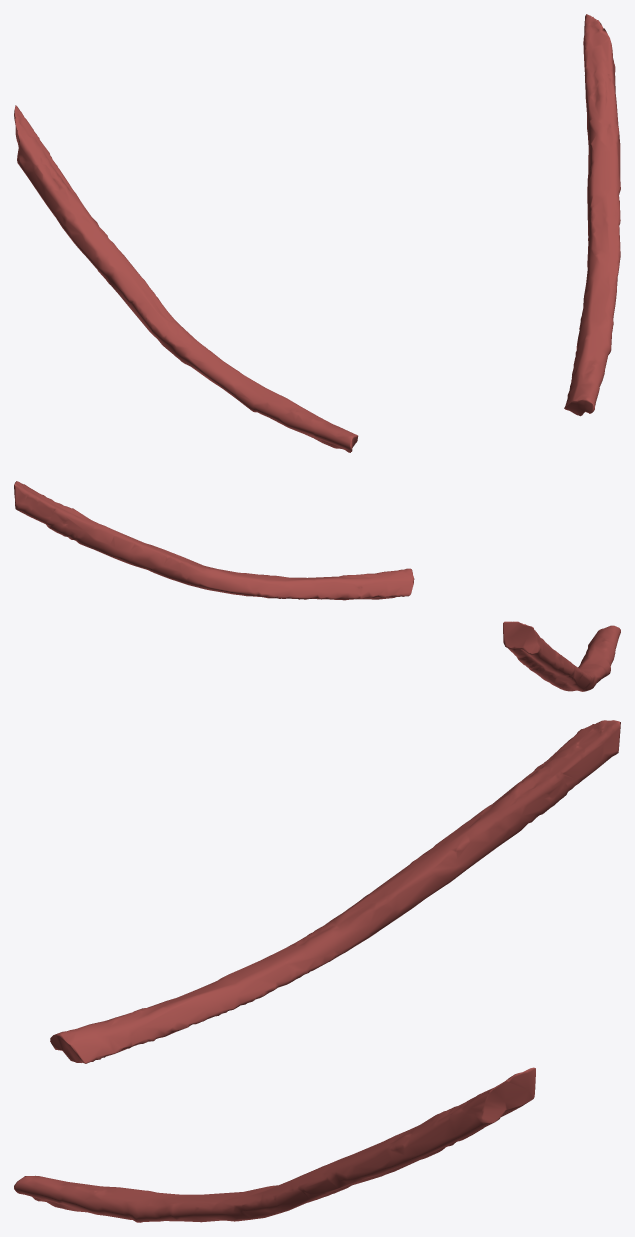
File: FMA46442.glb
3 views of the same model, one above another, from view 1: azimuth 30°, elevation 25°; view 2: azimuth 150°, elevation 25°; view 3: azimuth 270°, elevation 25° (orthographic). The views are drawn at different scales.
Parts seen in each view (by area): view 1: FMA46442; view 2: FMA46442; view 3: FMA46442.
Boxes of the visible parts, <box> form: FMA46442: <box>14,14,620,452</box>; FMA46442: <box>14,481,620,691</box>; FMA46442: <box>14,720,620,1222</box>.
Bounding box in the file's own units: 0.0897 × 0.034 × 0.0672.
